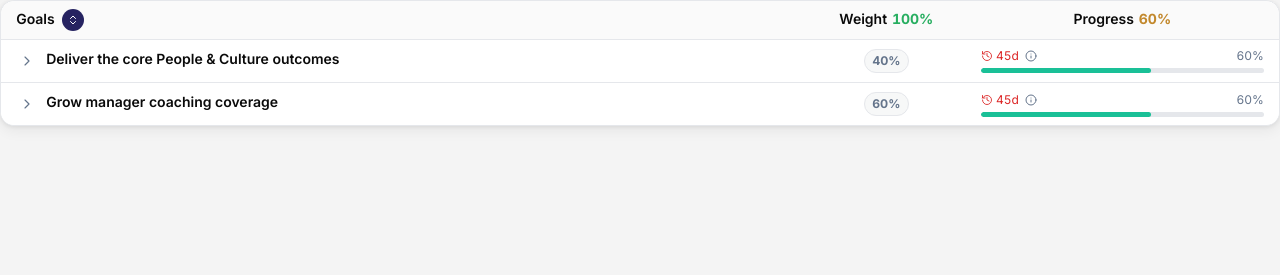
GoalsTable nested measures › expands and collapses all measure rows from the header button
Expected: the text "Primary outcome completion" is not shown
Click the button named "Expand all". click: (73, 20)
box: [62,9,84,31]
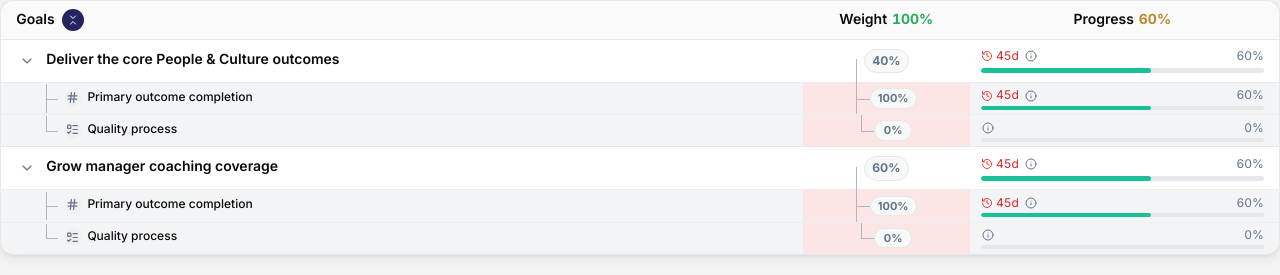
Now the text "Primary outcome completion" is shown 2 times, box [87,88,253,105]; [87,196,253,212]
Now the button named "Collapse all" is shown
Click the button named "Collapse all". click: (73, 20)
box: [62,9,84,31]
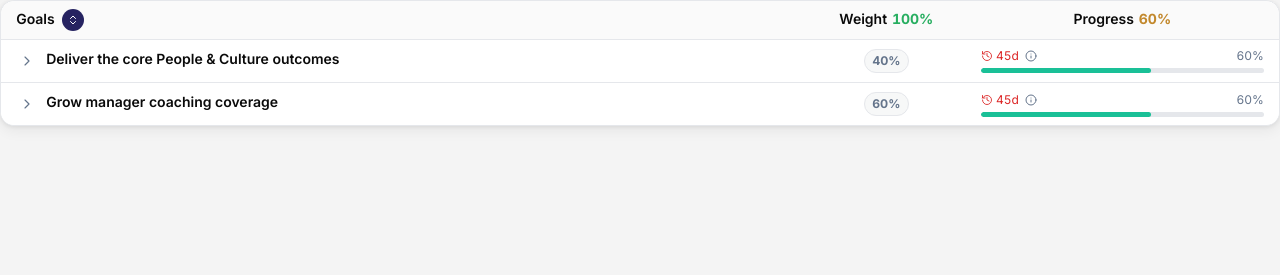
Now the text "Primary outcome completion" is gone
Now the button named "Expand all" is shown, box [62,9,84,31]
